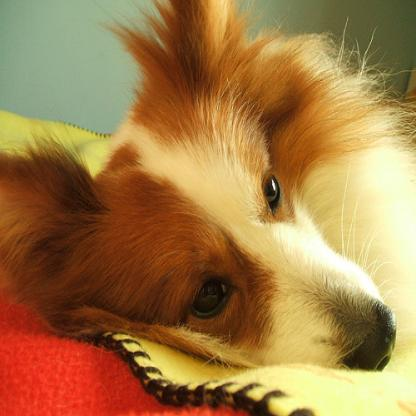Shetland_sheepdog: (1, 1, 413, 414)
